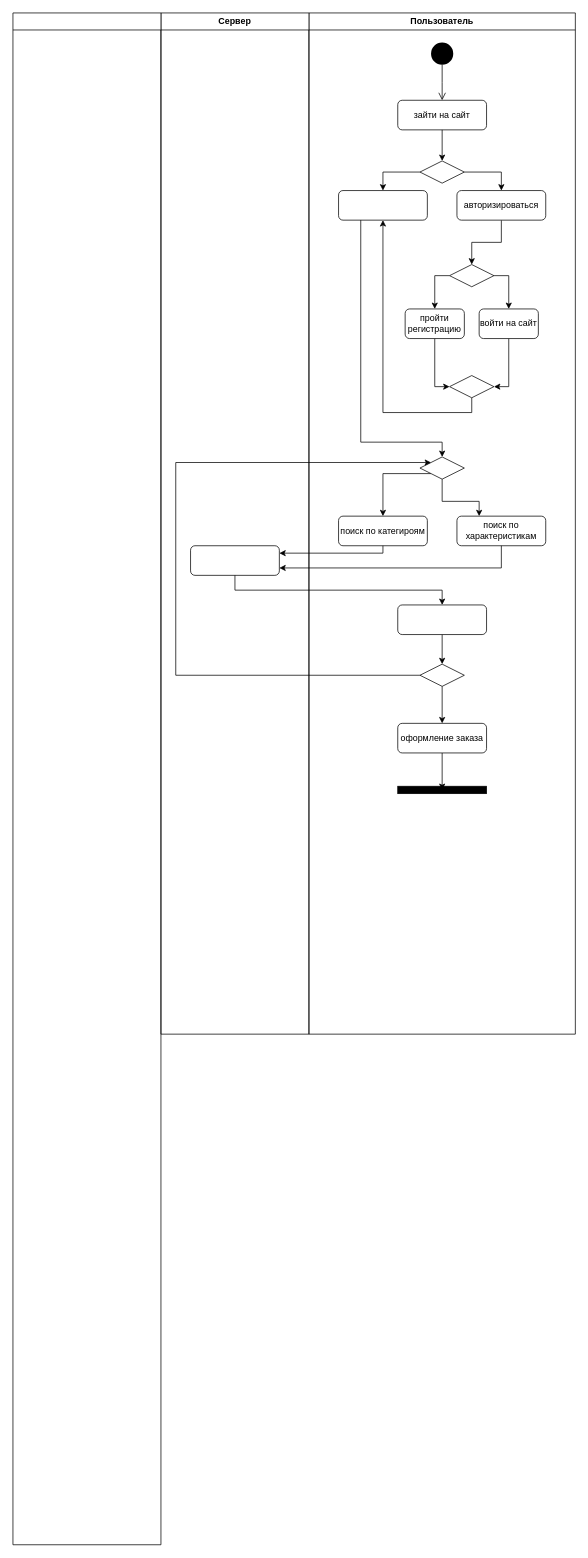
The diagram is 588 pixels wide and 1558 high, and some of its shapes have lost their labels. Here are the shapes that lost their labels. From the top down, the box of each, then its label:
(338, 190, 427, 220): начать покупки
(190, 545, 279, 575): выполнение поиска
(397, 604, 487, 635): просмотр результата поиска
(12, 12, 161, 1545): Администратор
